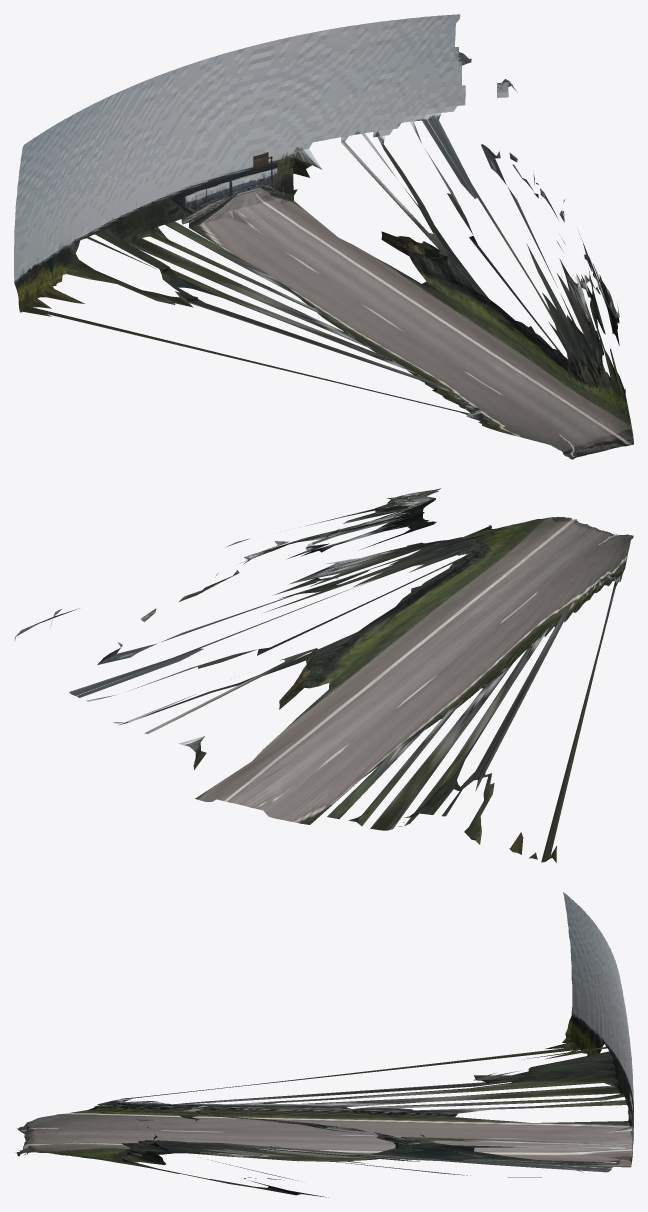
The picture shows the model from 3 angles, top to bottom: view 1: azimuth 30°, elevation 25°; view 2: azimuth 150°, elevation 25°; view 3: azimuth 270°, elevation 25°; orthographic projection. The views are drawn at different scales.
Parts seen in each view (by area): view 1: defaultobject; view 2: defaultobject; view 3: defaultobject.
Part boxes in pixels (bbox=[...]): defaultobject: bbox=[14, 14, 633, 459]; defaultobject: bbox=[14, 488, 633, 862]; defaultobject: bbox=[15, 892, 633, 1197].
Bounding box in the file's own units: 37.62 × 12.9 × 44.87.
Materials: 1 (1 with a texture image).
